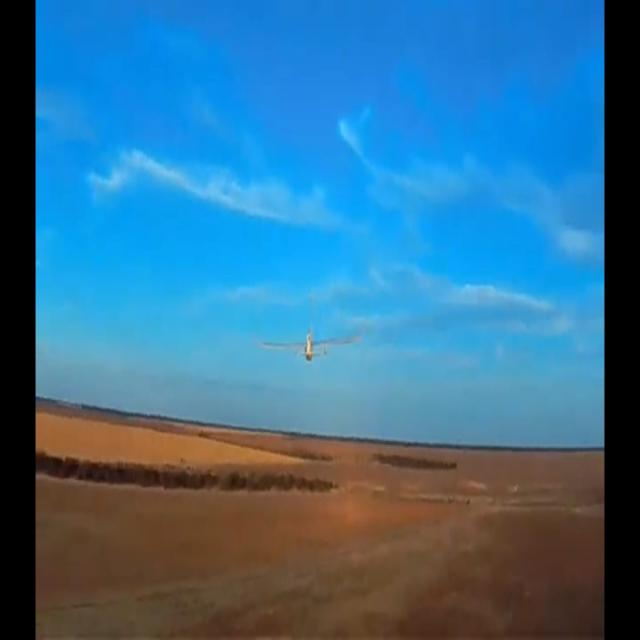iha: (291, 328, 330, 363)
